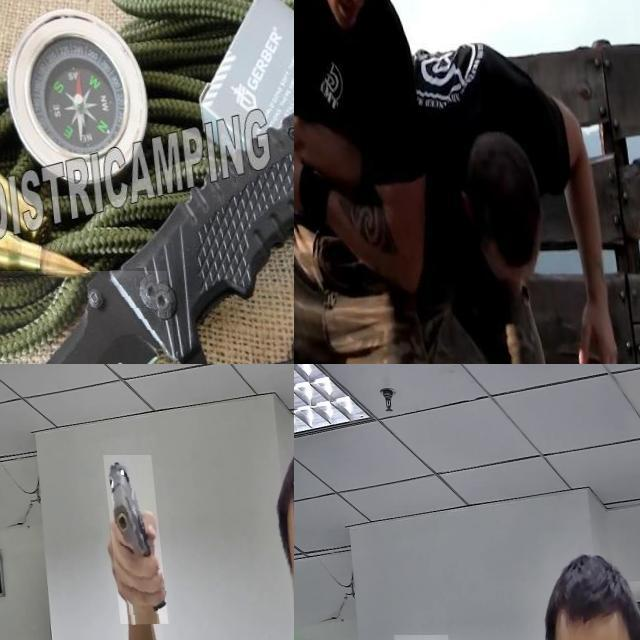-: (0, 271, 179, 364), (294, 123, 345, 240)
gun-knife-thesis - v11 Yolov5 augmented: (98, 455, 159, 624)
